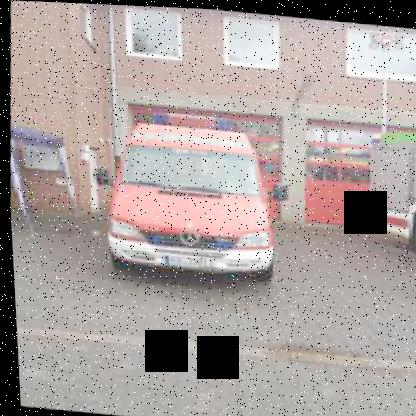emergency: (82, 93, 297, 287)
